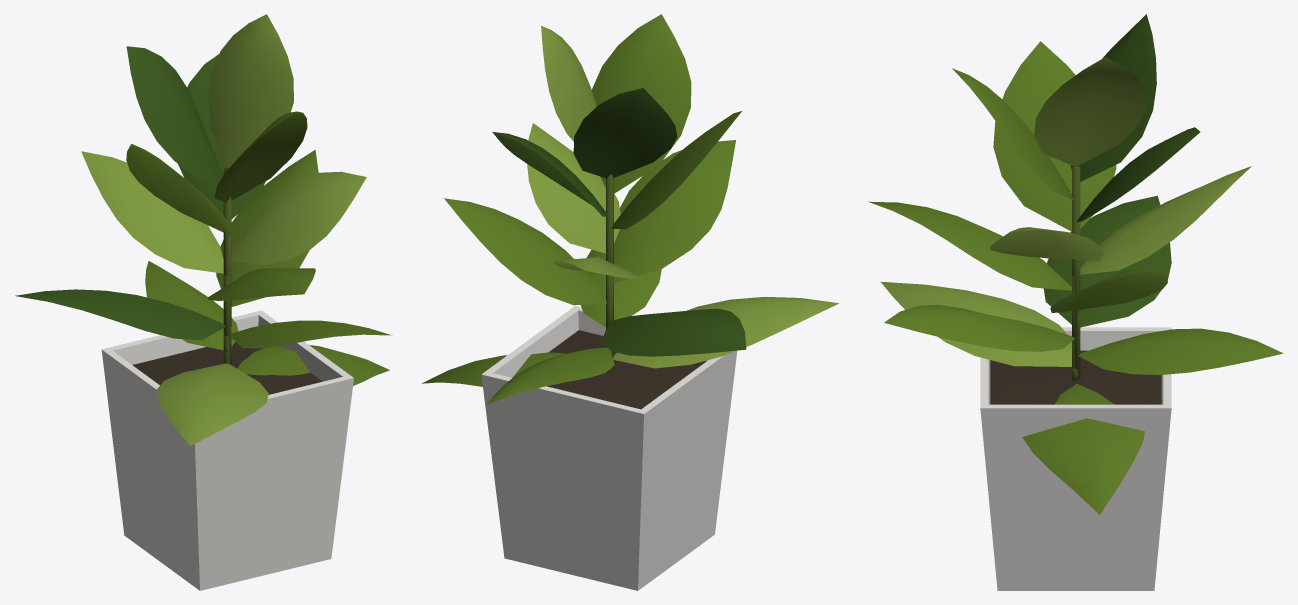
File: greenery.desk-plant-broadleaf.glb
3 views of the same model, side by side, from view 1: azimuth 30°, elevation 25°; view 2: azimuth 150°, elevation 25°; view 3: azimuth 270°, elevation 25° (orthographic). The views are drawn at different scales.
Visible parts, largest first — view 1: greenery.desk-plant-broadleaf.001; view 2: greenery.desk-plant-broadleaf.001; view 3: greenery.desk-plant-broadleaf.001.
Part boxes in pixels (bbox=[...]): greenery.desk-plant-broadleaf.001: bbox=[15, 14, 392, 590]; greenery.desk-plant-broadleaf.001: bbox=[422, 14, 838, 590]; greenery.desk-plant-broadleaf.001: bbox=[868, 14, 1283, 590].
Size of the model in its own units: 0.3 by 0.42 by 0.3.
